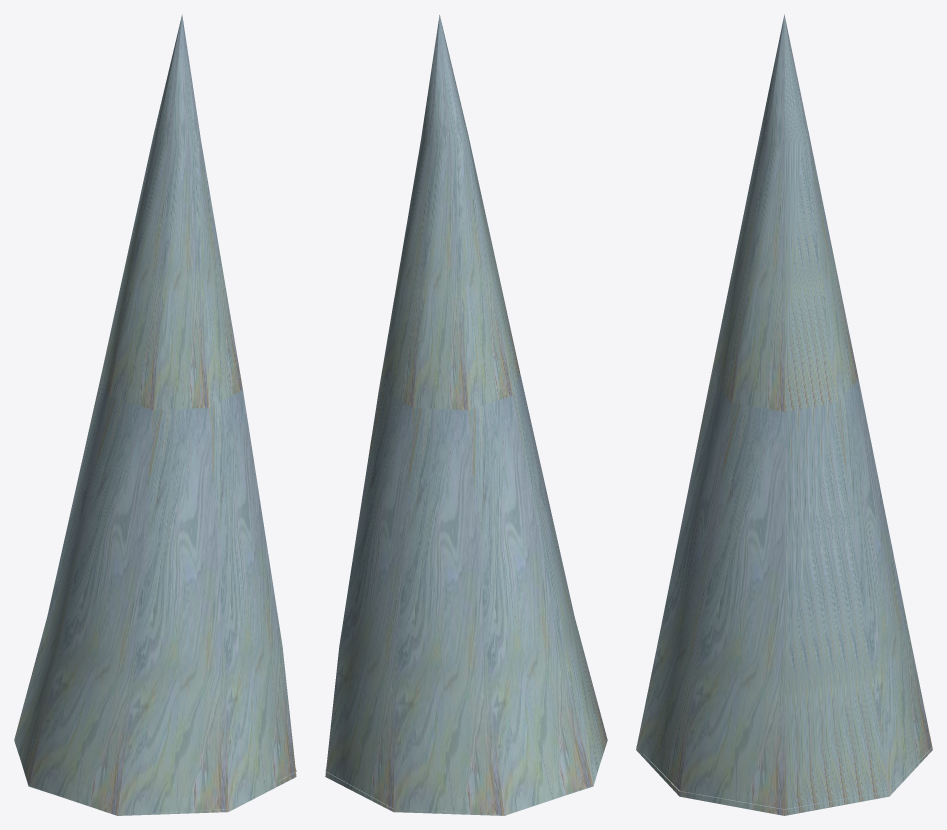
Rendered from stalagmit.fbx.
The picture shows the model from 3 angles, left to right: view 1: azimuth 30°, elevation 25°; view 2: azimuth 150°, elevation 25°; view 3: azimuth 270°, elevation 25°; orthographic projection.
Visible parts, largest first — view 1: polySurface1; view 2: polySurface1; view 3: polySurface1.
Part boxes in pixels (<box>): polySurface1: <box>14,14,296,815</box>; polySurface1: <box>325,15,607,815</box>; polySurface1: <box>636,14,932,815</box>.
Bounding box in the file's own units: 0.4444 × 1.24 × 0.4433.
1 material, 1 textured.
